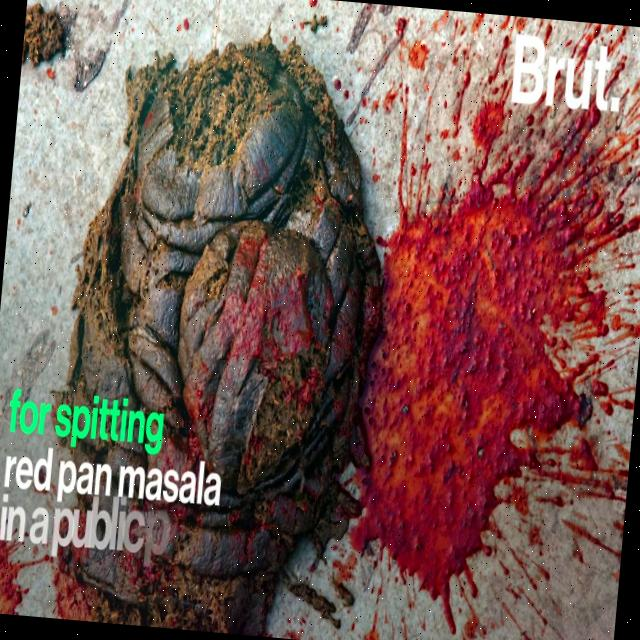spit: (344, 152, 616, 620)
